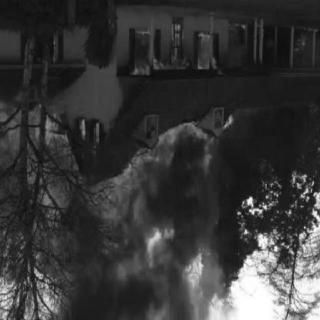Smoke: (41, 186, 97, 292), (57, 286, 147, 318)
